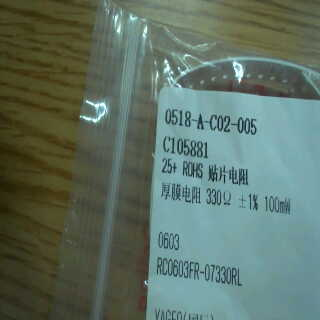330R: (205, 185, 233, 210)
